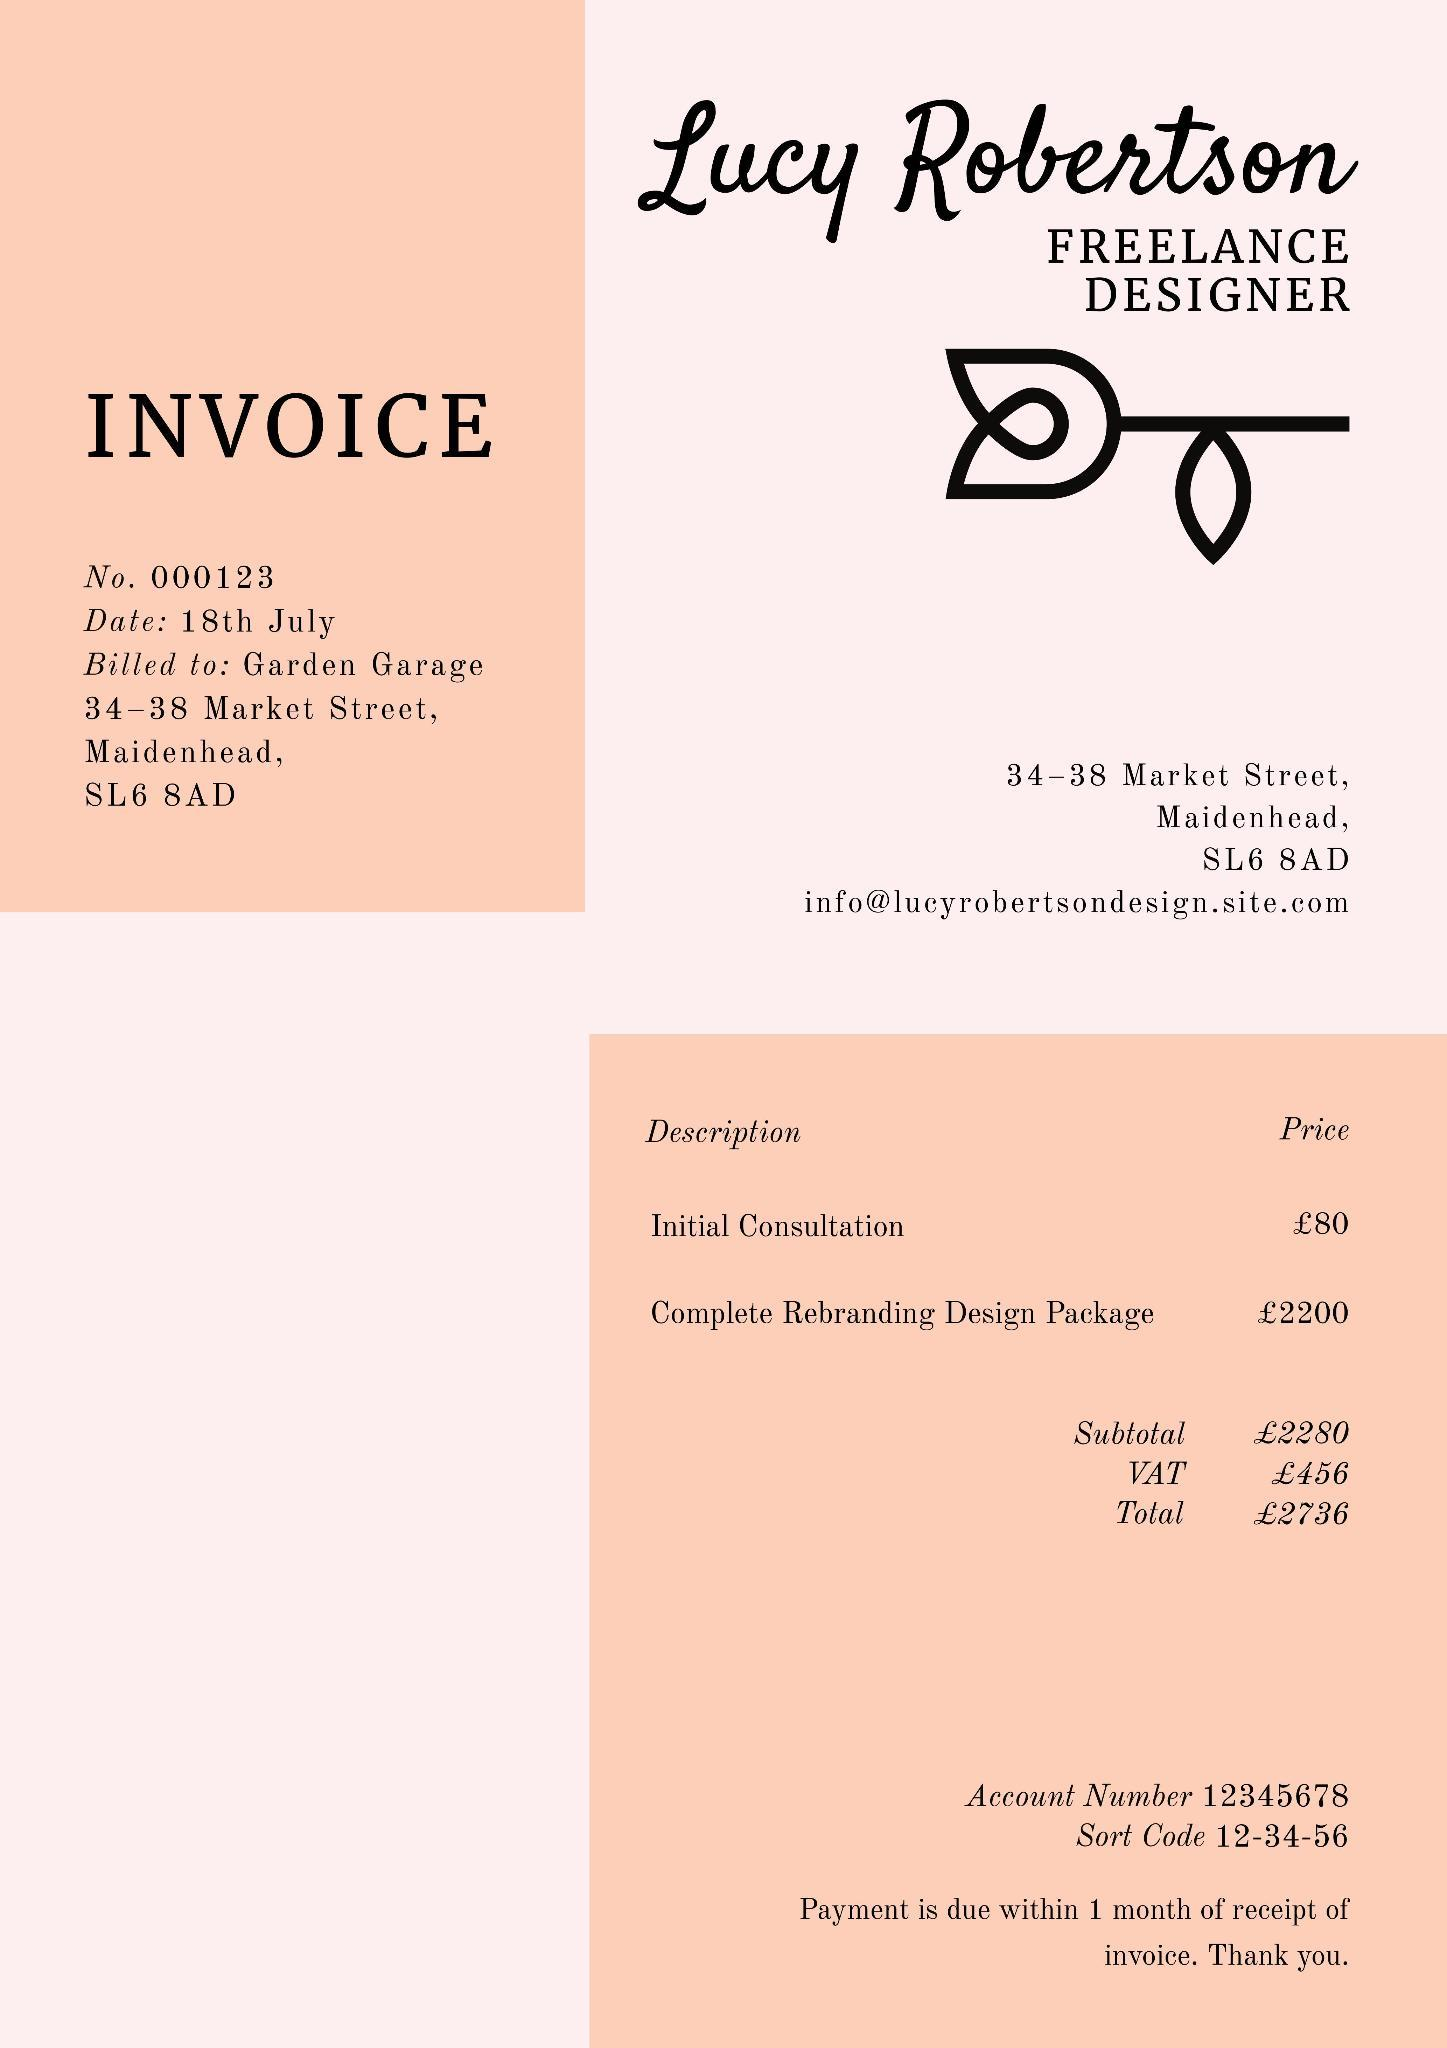ROI: (630, 1074, 1391, 1364), (619, 80, 1398, 323), (785, 714, 1384, 946), (922, 337, 1369, 575), (77, 647, 496, 820), (36, 338, 520, 489), (788, 1880, 1402, 1992), (951, 1754, 1405, 1860), (1051, 1397, 1361, 1544), (80, 600, 349, 642), (80, 546, 299, 595)
